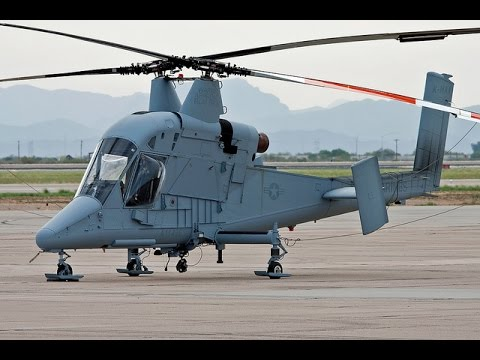MilitaryHelicopter: (51, 47, 462, 263)
